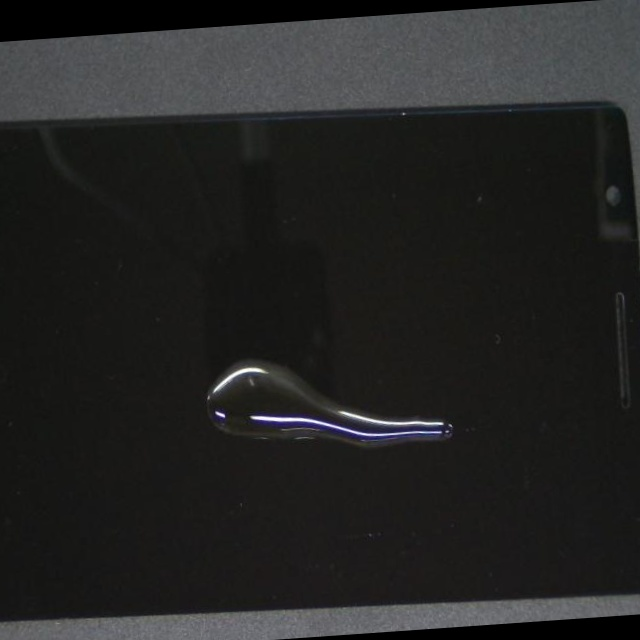oil: (187, 222, 640, 640)
